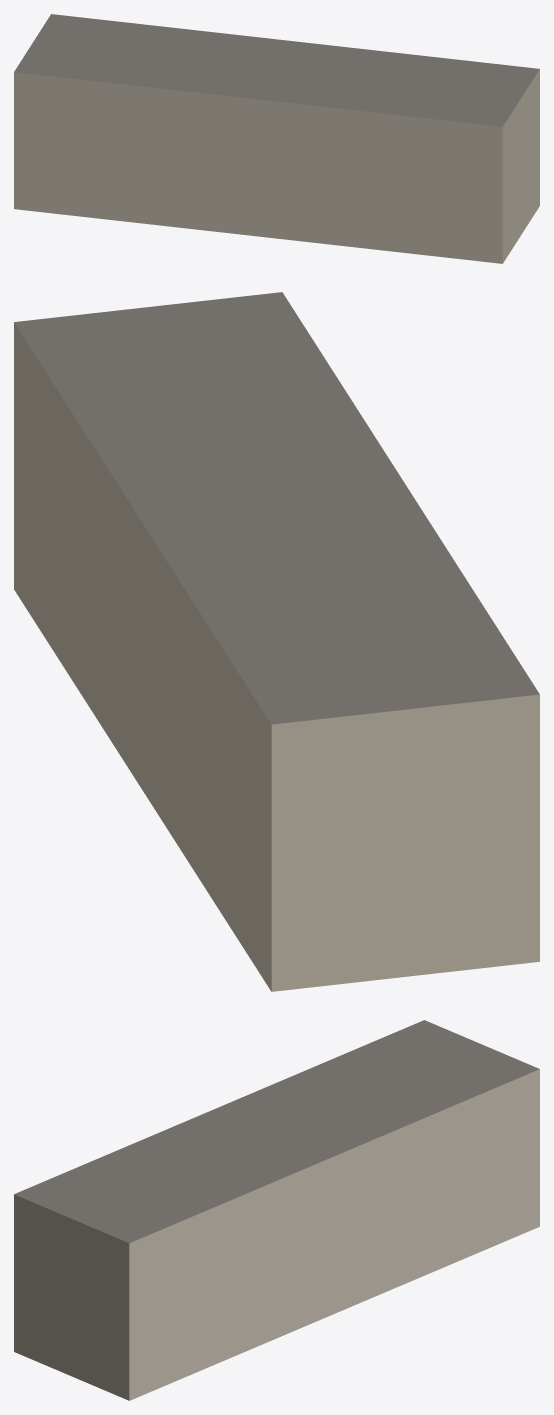
The picture shows the model from 3 angles, top to bottom: view 1: azimuth 30°, elevation 25°; view 2: azimuth 150°, elevation 25°; view 3: azimuth 270°, elevation 25°; orthographic projection. The views are drawn at different scales.
Parts seen in each view (by area): view 1: HP-w859488701; view 2: HP-w859488701; view 3: HP-w859488701.
Boxes of the visible parts, <box> form: HP-w859488701: <box>14,14,539,263</box>; HP-w859488701: <box>14,292,539,991</box>; HP-w859488701: <box>14,1020,539,1400</box>.
Bounding box in the file's own units: 54.69 × 18 × 54.44.
